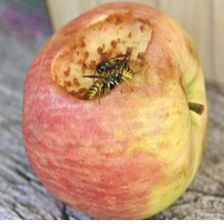apple: (22, 40, 202, 184)
